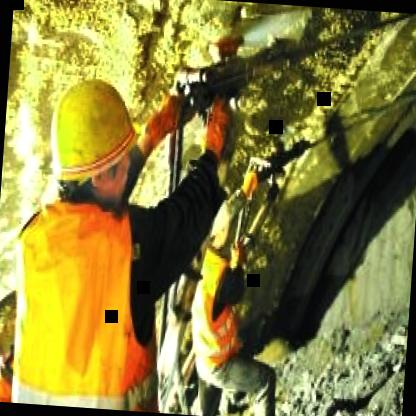helmet: (41, 62, 148, 214)
